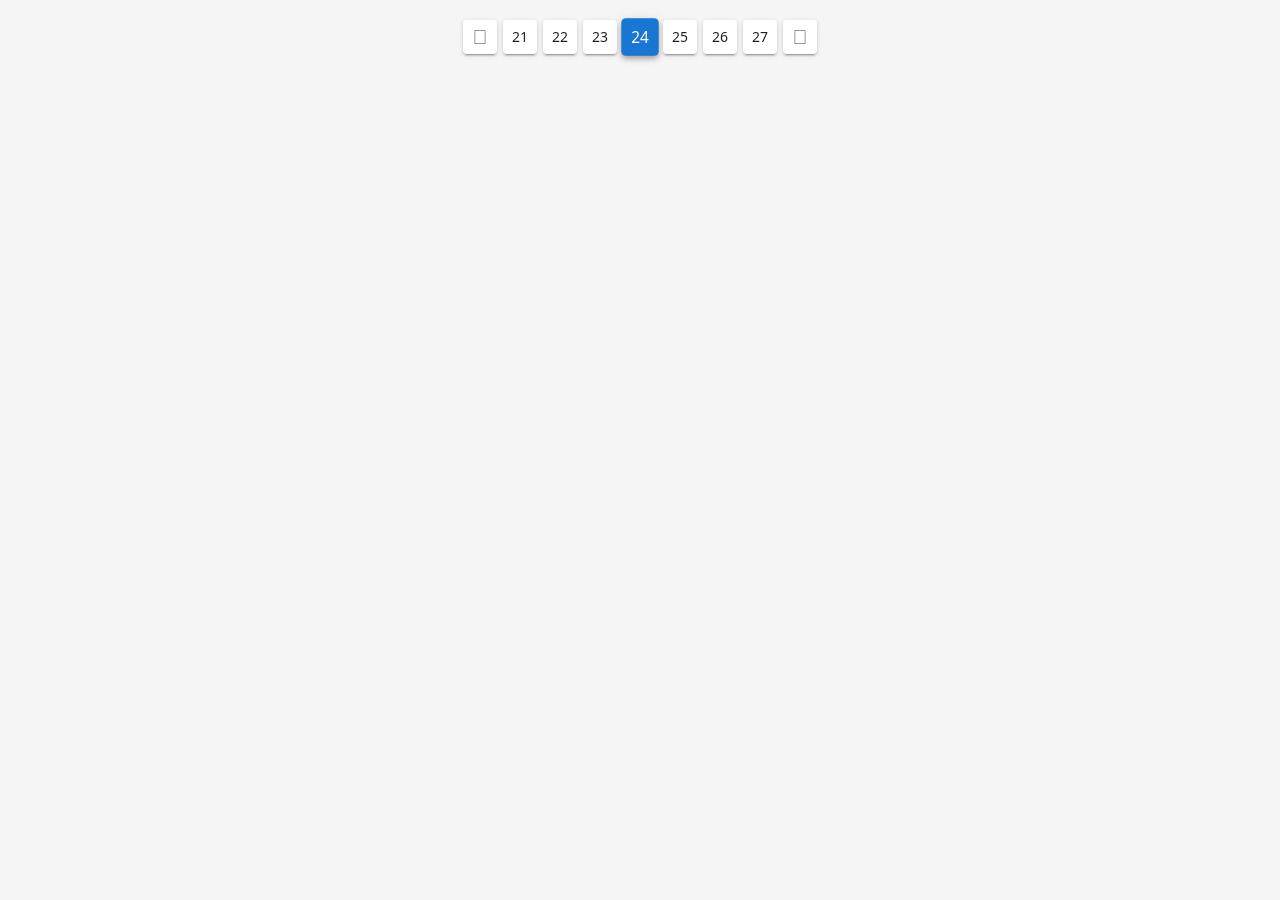
Scenario: ExtendedPagination page input dialog (Requirements 8.39-8.45) › [AC 8.39] opens an empty, focused input dialog from the current page button
The image size is (1280, 900).
Click the button named "ページ数を入力して移動".
click(640, 37)  # box [621,18,659,56]
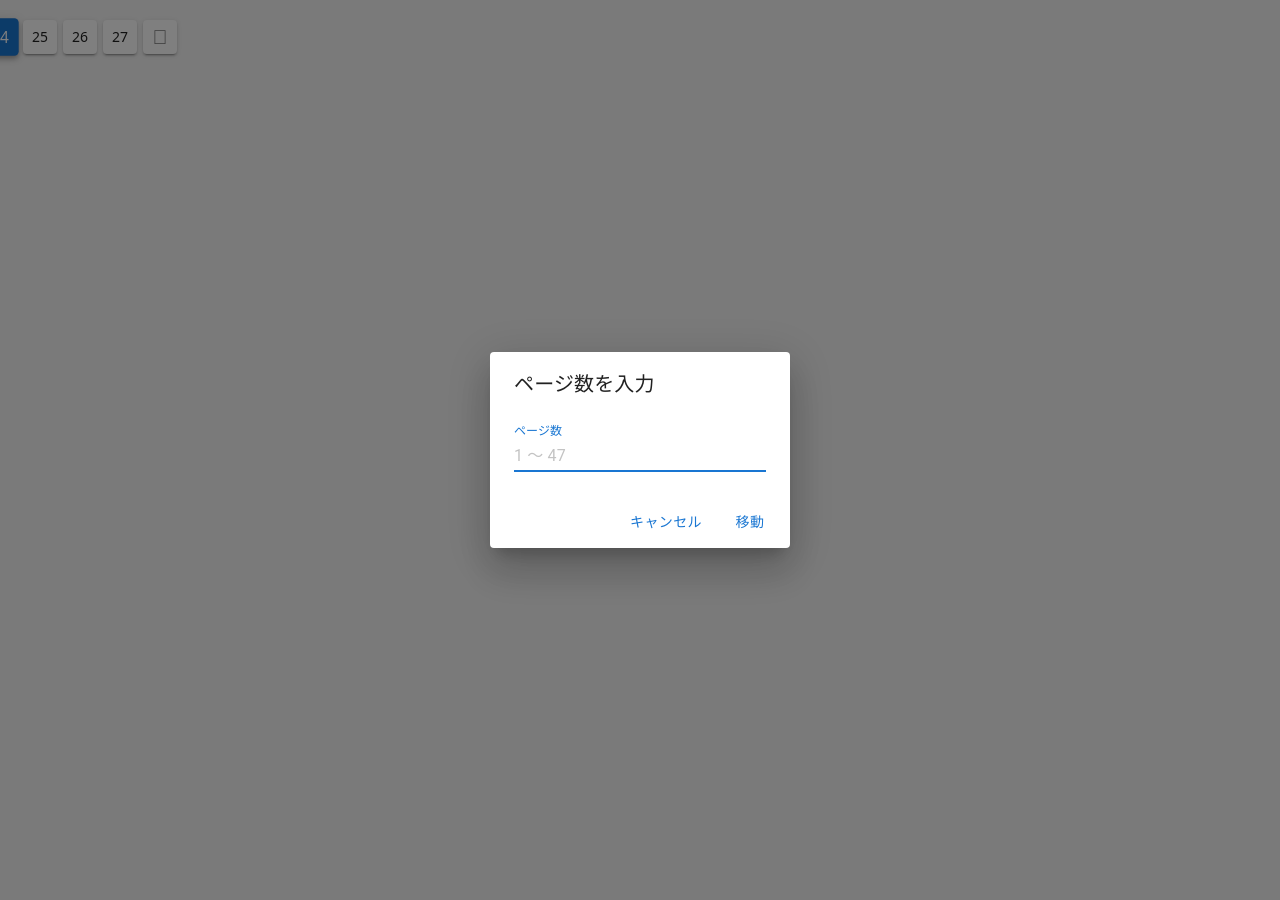
Expected: the dialog "ページ数を入力" is shown, [490,352,790,548]
Expected: the field labelled "ページ数" is empty, [514,440,766,472]
Expected: the button "キャンセル" is shown, [622,504,710,540]
